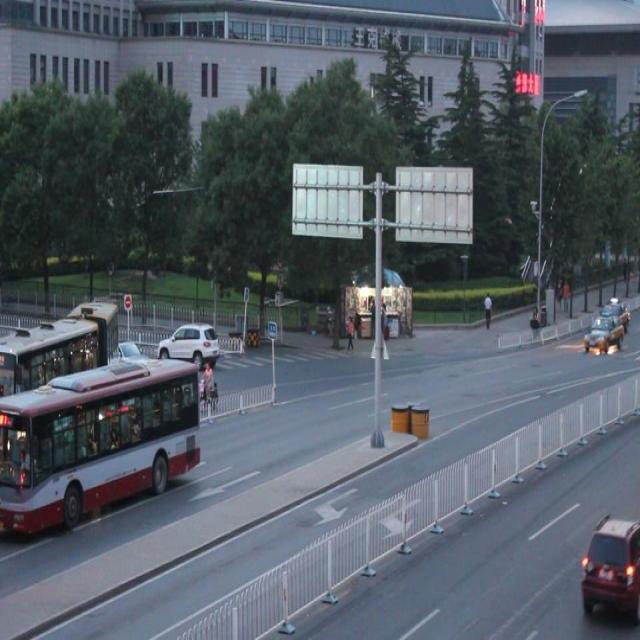car: (578, 513, 640, 613), (157, 321, 221, 364), (106, 336, 147, 382)
van: (1, 361, 202, 534), (0, 302, 119, 412)
